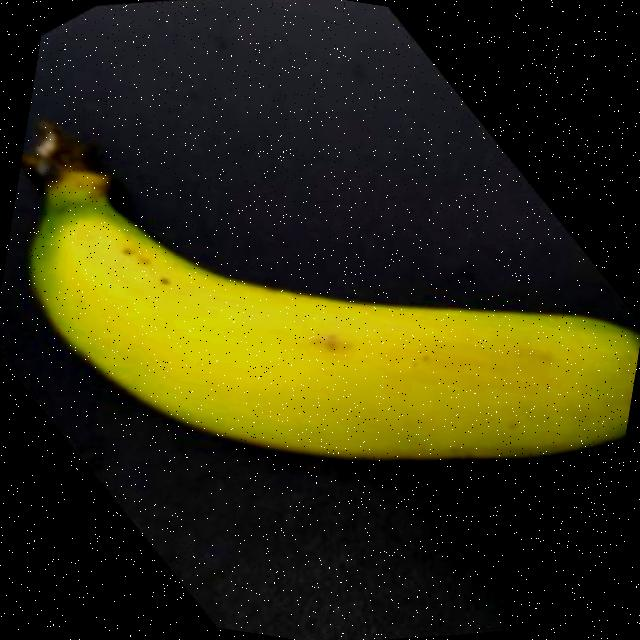Ripe: (0, 98, 640, 539)
